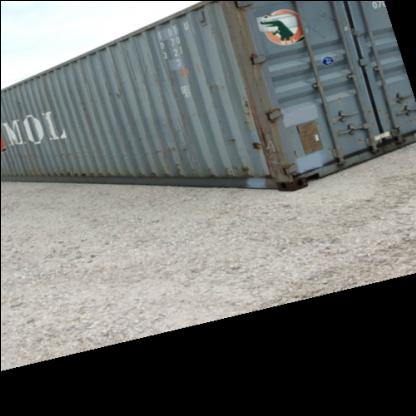Damage: (4, 95, 47, 174), (237, 90, 264, 154), (140, 138, 194, 160), (209, 161, 259, 177), (197, 72, 226, 98), (96, 79, 126, 103), (218, 130, 238, 148)
